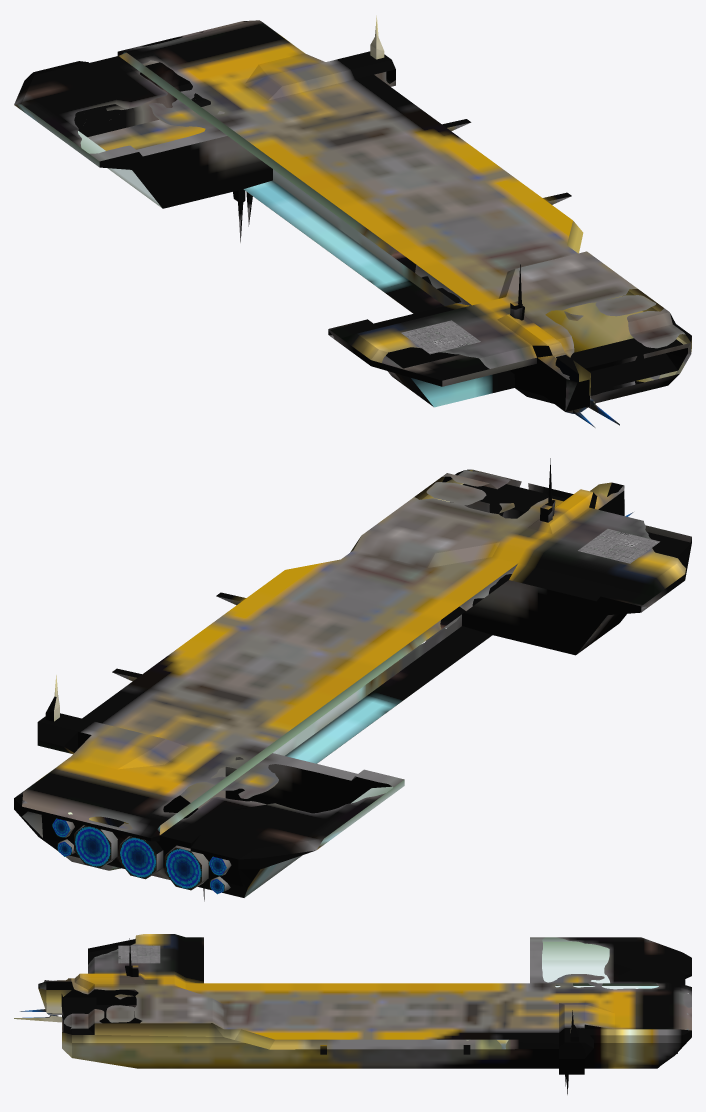
Rendered from LOD2-UVFlip.obj.
The picture shows the model from 3 angles, top to bottom: view 1: azimuth 30°, elevation 25°; view 2: azimuth 150°, elevation 25°; view 3: azimuth 270°, elevation 25°; orthographic projection. The views are drawn at different scales.
Parts seen in each view (by area): view 1: LOD2_TEX, Badge; view 2: LOD2_TEX, Hgn_Burner, Badge; view 3: LOD2_TEX, Badge.
Part boxes in pixels (x1,y1,x2,y2): LOD2_TEX: (14, 15, 691, 427); Badge: (401, 320, 480, 354); LOD2_TEX: (14, 458, 691, 901); Hgn_Burner: (52, 818, 226, 894); Badge: (578, 529, 659, 563); LOD2_TEX: (14, 934, 691, 1094); Badge: (118, 945, 160, 963).
Bounding box in the file's own units: 799 × 507 × 2024.
